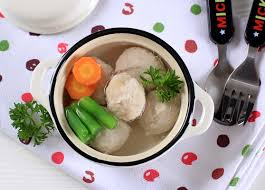bakso: (57, 39, 187, 154)
